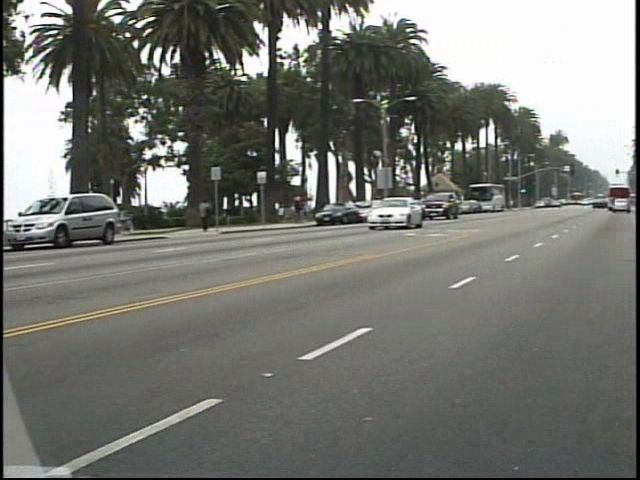person: (202, 193, 224, 232), (298, 189, 317, 224)
